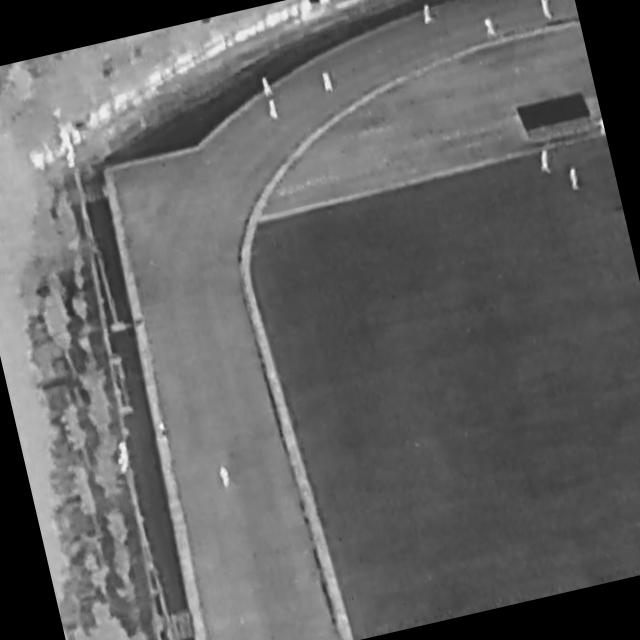person: (538, 148, 554, 175), (567, 165, 582, 192), (158, 419, 171, 445), (218, 464, 232, 488), (261, 74, 275, 98), (484, 15, 498, 39), (321, 71, 334, 96), (268, 99, 281, 121), (422, 3, 435, 25), (539, 1, 552, 20), (597, 116, 607, 136)
